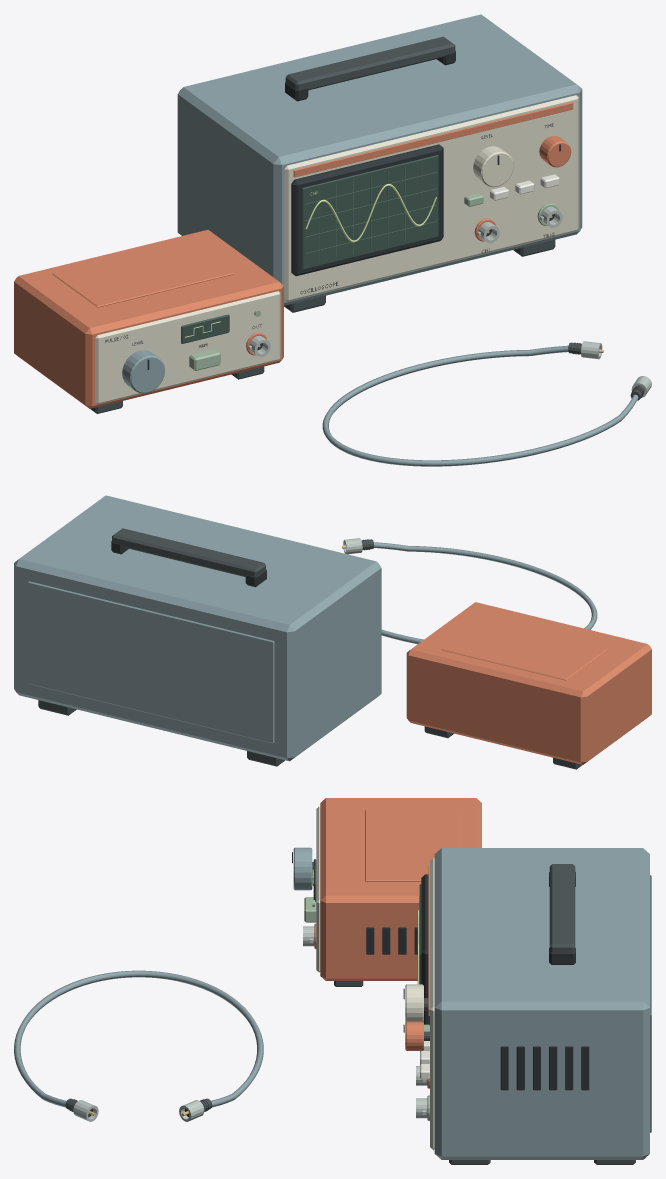
File: asset.glb
The picture shows the model from 3 angles, top to bottom: view 1: azimuth 30°, elevation 25°; view 2: azimuth 150°, elevation 25°; view 3: azimuth 270°, elevation 25°; orthographic projection. The views are drawn at different scales.
Parts seen in each view (by area): view 1: oscilloscope.body, oscilloscope.panel_front, trigger-controller.body, oscilloscope.screen, trigger-controller.panel_front, trigger-controller.top_inset, signal-cable.body, oscilloscope.screen_bezel, oscilloscope.handle, oscilloscope.top_strip, trigger-controller.knob, oscilloscope.knob (+2 smaller); view 2: oscilloscope.body, oscilloscope.rear_panel, trigger-controller.body, trigger-controller.top_inset, oscilloscope.handle, signal-cable.body; view 3: oscilloscope.body, trigger-controller.body, trigger-controller.top_inset, signal-cable.body, oscilloscope.handle, oscilloscope.panel_front, oscilloscope.screen_bezel, trigger-controller.knob, trigger-controller.panel_front, oscilloscope.knob, oscilloscope.knob_time.
Boxes of the visible parts, bbox=[...] form: oscilloscope.body: bbox=[177, 14, 582, 305]; oscilloscope.panel_front: bbox=[284, 95, 578, 301]; trigger-controller.body: bbox=[14, 230, 283, 408]; oscilloscope.screen: bbox=[302, 155, 438, 269]; trigger-controller.panel_front: bbox=[95, 291, 280, 404]; trigger-controller.top_inset: bbox=[52, 240, 234, 307]; signal-cable.body: bbox=[322, 345, 638, 466]; oscilloscope.screen_bezel: bbox=[291, 144, 443, 276]; oscilloscope.handle: bbox=[285, 36, 455, 90]; oscilloscope.top_strip: bbox=[293, 102, 573, 177]; trigger-controller.knob: bbox=[122, 350, 164, 393]; oscilloscope.knob: bbox=[473, 146, 513, 187]; oscilloscope.body: bbox=[14, 495, 381, 761]; oscilloscope.rear_panel: bbox=[28, 581, 274, 743]; trigger-controller.body: bbox=[406, 602, 651, 764]; trigger-controller.top_inset: bbox=[441, 619, 606, 680]; oscilloscope.handle: bbox=[112, 528, 265, 576]; signal-cable.body: bbox=[374, 542, 597, 644]; oscilloscope.body: bbox=[434, 848, 649, 1159]; trigger-controller.body: bbox=[320, 798, 481, 980]; trigger-controller.top_inset: bbox=[365, 810, 461, 881]; signal-cable.body: bbox=[14, 970, 263, 1107]; oscilloscope.handle: bbox=[549, 864, 575, 953]; oscilloscope.panel_front: bbox=[430, 858, 434, 1150]; oscilloscope.screen_bezel: bbox=[421, 874, 429, 1024]; trigger-controller.knob: bbox=[293, 847, 312, 890]; trigger-controller.panel_front: bbox=[316, 806, 320, 972]; oscilloscope.knob: bbox=[405, 984, 423, 1022]; oscilloscope.knob_time: bbox=[405, 1021, 423, 1050].
Bounding box in the file's own units: 0.5015 × 0.159 × 0.4744.
